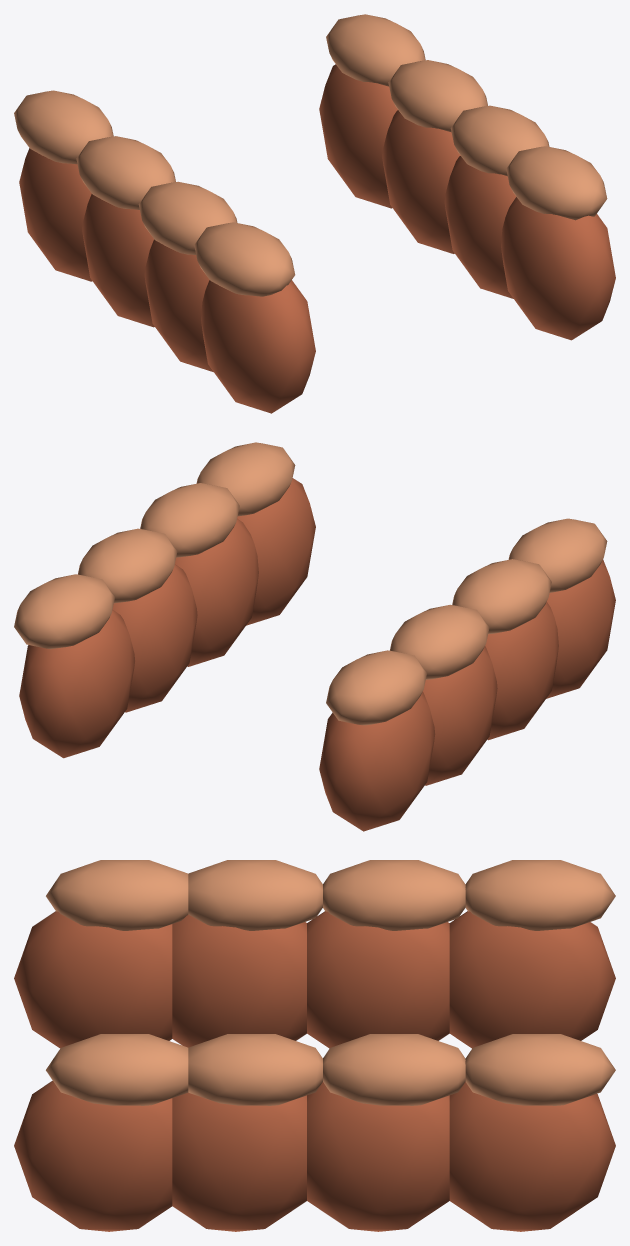
Rendered from race_canyon_mobile.glb.
3 renders of one model, top to bottom at view 1: azimuth 30°, elevation 25°; view 2: azimuth 150°, elevation 25°; view 3: azimuth 270°, elevation 25°, orthographic. The views are drawn at different scales.
Visible parts, largest first — view 1: race_canyon; view 2: race_canyon; view 3: race_canyon.
Part boxes in pixels (left/top/right/bottom): race_canyon: left=14, top=14, right=615, bottom=413; race_canyon: left=14, top=442, right=615, bottom=831; race_canyon: left=14, top=860, right=615, bottom=1231.
Bounding box in the file's own units: 32.09 × 13.7 × 38.
